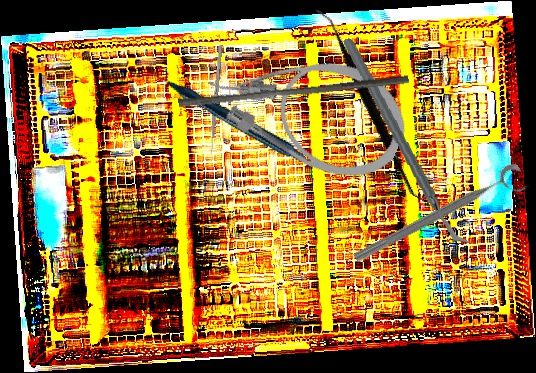Cannula: (193, 16, 421, 196)
Chopper: (343, 30, 471, 255)
Fixation Ring: (350, 160, 531, 278)
Handpiece: (149, 22, 306, 202)
Pusher: (177, 66, 410, 116), (208, 44, 223, 162)
Spatula Surgical: (260, 8, 486, 205)
